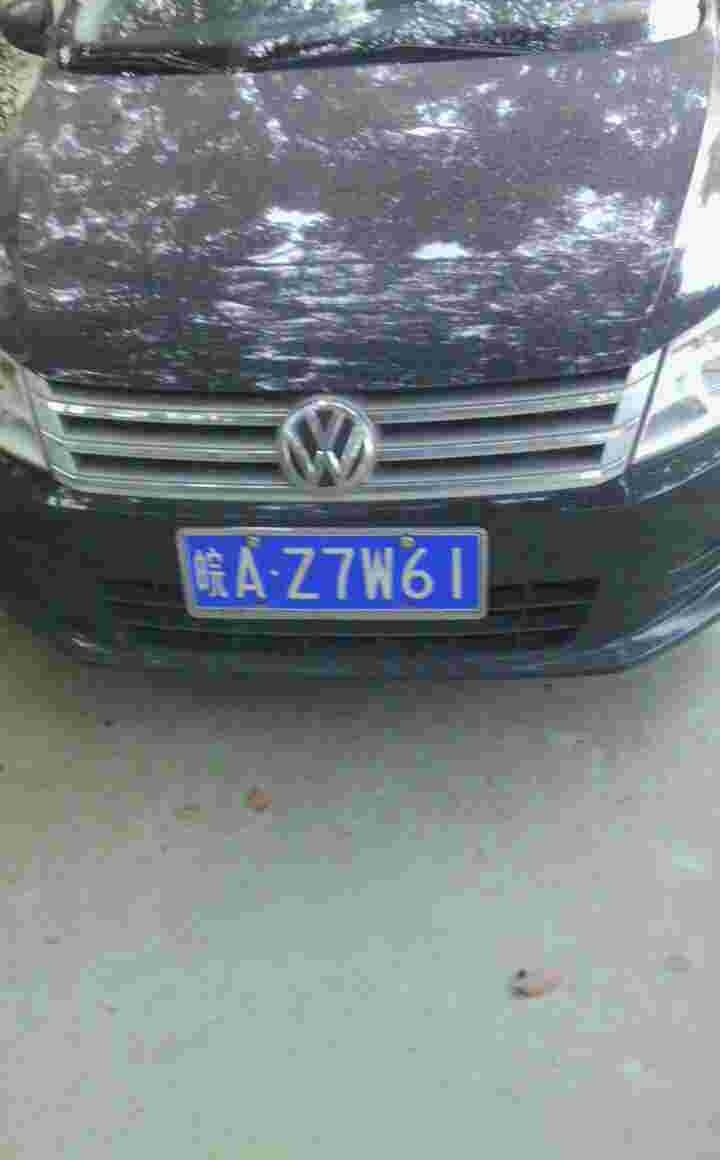plate: (183, 529, 492, 617)
